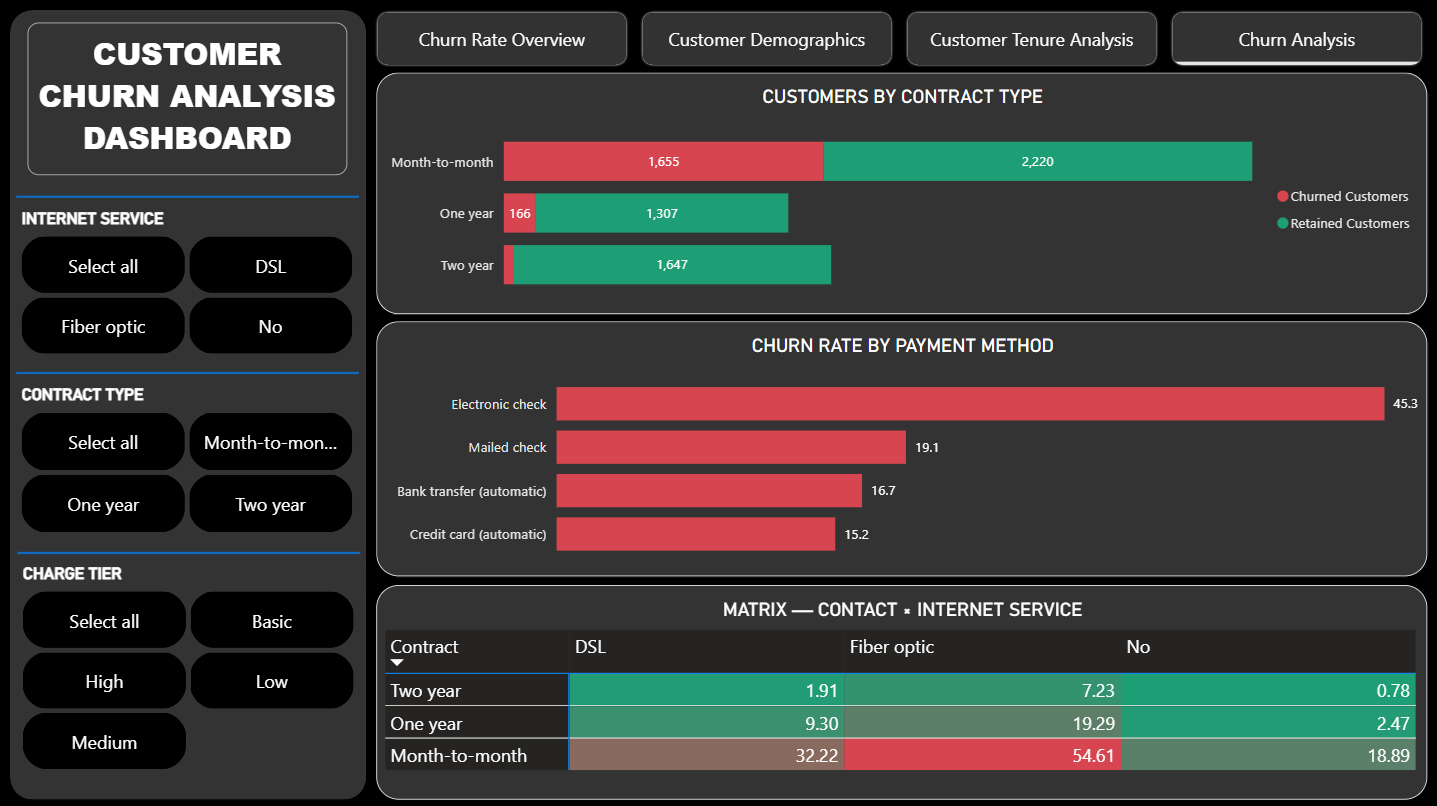

This screenshot's page, from the dashboard's own definition file:
{"tool":"powerbi","page":{"name":"Churn Analysis","canvas":[1280,720],"ordinal":3},"visuals":[{"type":"pageNavigator","box":[334.2,8.4,936.2,51.9],"z":0},{"type":"shape","box":[8.4,8.4,317.3,703.4],"z":1000},{"type":"advancedSlicerVisual","title":"INTERNET SERVICE","fields":{"Values":["TelcoCustomerData.InternetService"]},"box":[14.5,185.8,305.2,135.1],"z":2000},{"type":"advancedSlicerVisual","title":"CONTRACT TYPE","fields":{"Values":["TelcoCustomerData.Contract"]},"box":[14.5,342.6,305.2,136.3],"z":3000},{"type":"advancedSlicerVisual","title":"CHARGE TIER","fields":{"Values":["TelcoCustomerData.MonthlyChargeTier"]},"box":[15.7,501.9,305.2,189.4],"z":4000},{"type":"shape","box":[14.5,305.2,305.2,54.3],"z":5000},{"type":"shape","box":[15.7,465.7,305.2,54.3],"z":6000},{"type":"textbox","box":[24.1,20.5,284.7,136.3],"z":7000},{"type":"shape","box":[14.5,148.4,305.2,54.3],"z":8000},{"type":"pivotTable","title":"MATRIX — CONTACT × INTERNET SERVICE","fields":{"Rows":["TelcoCustomerData.Contract"],"Columns":["TelcoCustomerData.InternetService"],"Values":["TelcoCustomerData.Churn_Rate"]},"box":[334.6,520.6,936,190.8],"z":9000},{"type":"barChart","title":"CUSTOMERS BY CONTRACT TYPE","fields":{"Category":["TelcoCustomerData.Contract"],"Y":["TelcoCustomerData.Churned_Customers","TelcoCustomerData.Retained_Customers"]},"box":[334.6,64,936,215],"z":10000},{"type":"clusteredBarChart","title":"CHURN RATE BY PAYMENT METHOD","fields":{"Y":["TelcoCustomerData.Churn_Rate"],"Category":["TelcoCustomerData.PaymentMethod"]},"box":[334.6,286.2,936,227.1],"z":11000}]}

Visuals, with their boxes in screenshot pixels (x1, y1, x2, y2), scaled from the page's 1280x720 canvas onto the 1437x806 screenshot:
pageNavigator: 375,9,1426,68
shape: 9,9,366,797
"INTERNET SERVICE" advancedSlicerVisual: 16,208,359,359
"CONTRACT TYPE" advancedSlicerVisual: 16,384,359,536
"CHARGE TIER" advancedSlicerVisual: 18,562,360,774
shape: 16,342,359,402
shape: 18,521,360,582
textbox: 27,23,347,176
shape: 16,166,359,227
"MATRIX — CONTACT × INTERNET SERVICE" pivotTable: 376,583,1426,796
"CUSTOMERS BY CONTRACT TYPE" barChart: 376,72,1426,312
"CHURN RATE BY PAYMENT METHOD" clusteredBarChart: 376,320,1426,575
